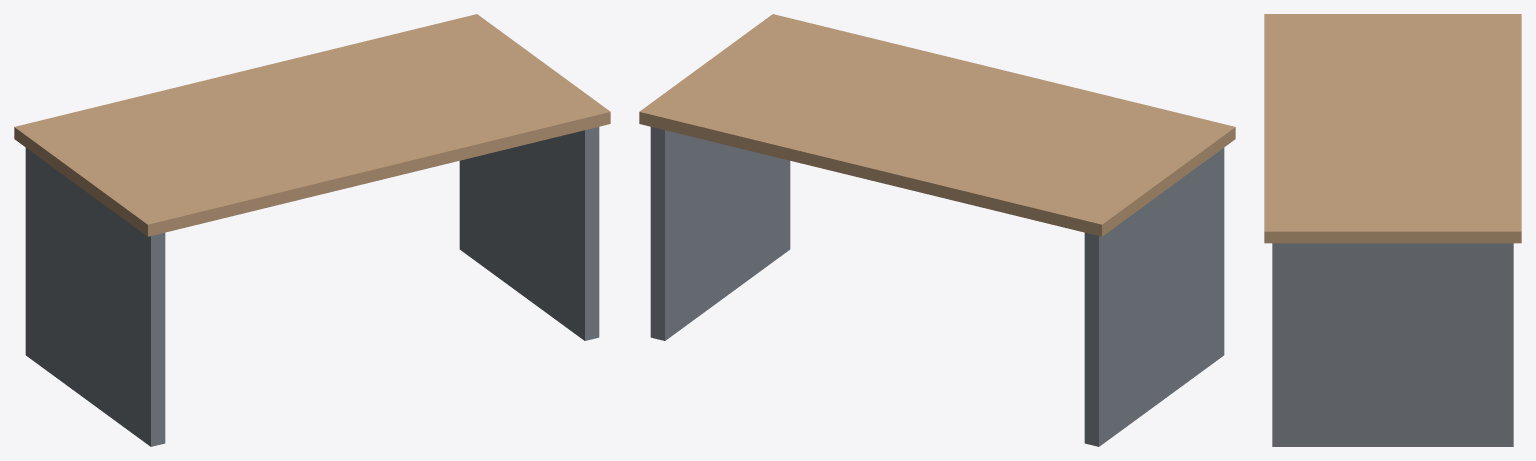
File: Furniture_OfficeDesk_01.fbx
3 renders of one model, left to right at view 1: azimuth 30°, elevation 25°; view 2: azimuth 150°, elevation 25°; view 3: azimuth 270°, elevation 25°, orthographic. The views are drawn at different scales.
Visible parts, largest first — view 1: Furniture_OfficeDesk_01; view 2: Furniture_OfficeDesk_01; view 3: Furniture_OfficeDesk_01.
Boxes of the visible parts, x1,y1,x2,y2 form: Furniture_OfficeDesk_01: (14,14,610,446); Furniture_OfficeDesk_01: (639,14,1235,446); Furniture_OfficeDesk_01: (1264,14,1521,446).
Bounding box in the file's own units: 1.6 × 0.75 × 0.8.
